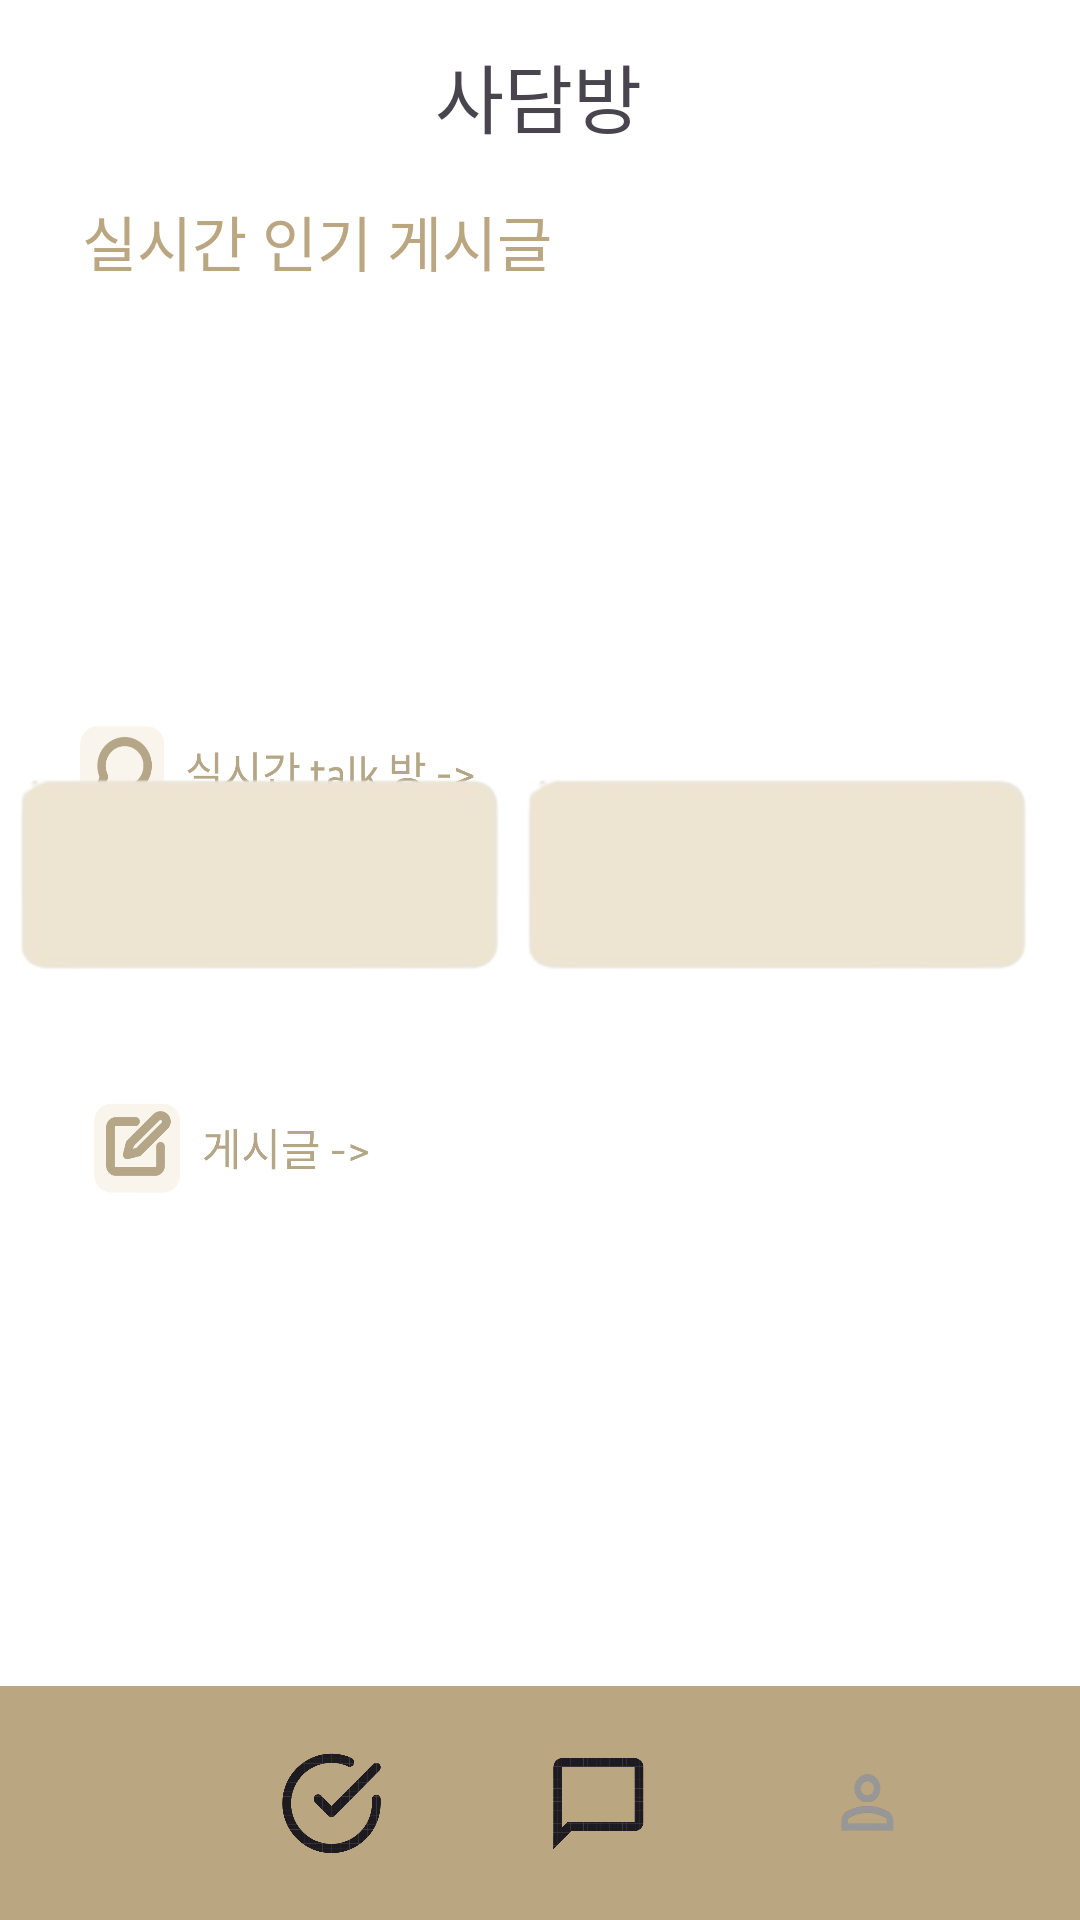

Locate icon controls on the screen. Image size 1080px x 1920px, boxes as (x1, y1, x2, y2).
chat: (553, 1758, 644, 1849)
check: (282, 1754, 381, 1853)
mypage: (842, 1774, 893, 1830)
